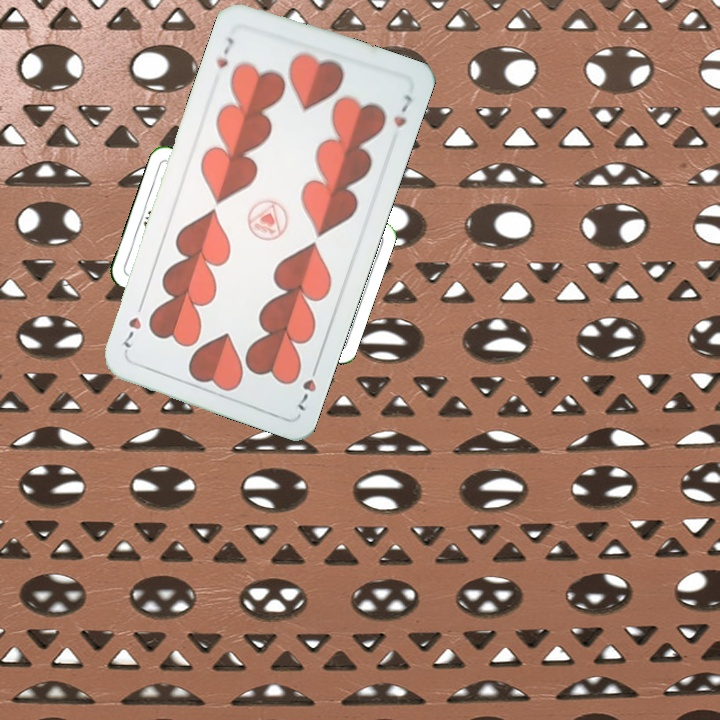H7: (293, 358, 322, 414), (212, 33, 237, 72)
